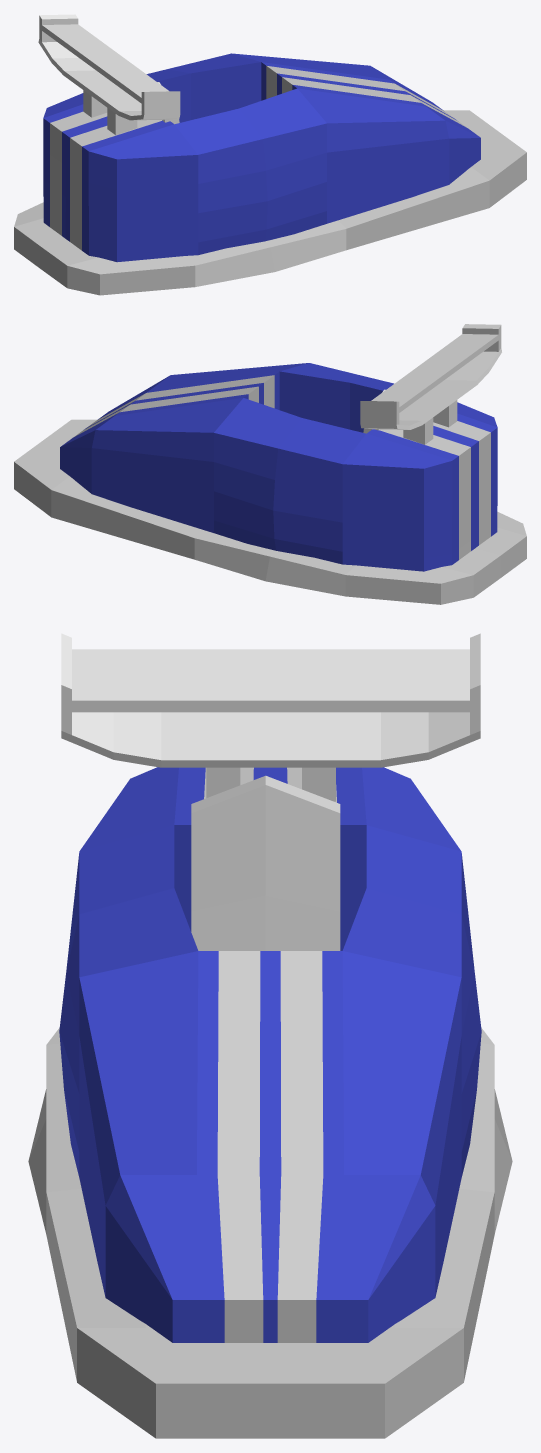
Rendered from Cart.fbx.
The picture shows the model from 3 angles, top to bottom: view 1: azimuth 30°, elevation 25°; view 2: azimuth 150°, elevation 25°; view 3: azimuth 270°, elevation 25°; orthographic projection. The views are drawn at different scales.
Visible parts, largest first — view 1: Cube, Cube.002, Cube.001; view 2: Cube, Cube.002, Cube.001; view 3: Cube, Cube.002, Cube.001, Cube.003.
Part boxes in pixels (x1,y1,x2,y2): Cube: (43,53,480,262); Cube.002: (14,110,526,295); Cube.001: (38,14,180,135); Cube: (60,363,497,571); Cube.002: (14,419,526,604); Cube.001: (360,324,501,444); Cube: (59,767,481,1342); Cube.002: (28,1028,512,1438); Cube.001: (61,633,480,801); Cube.003: (191,775,340,950).
Size of the model in its own units: 711 by 303 by 325.
